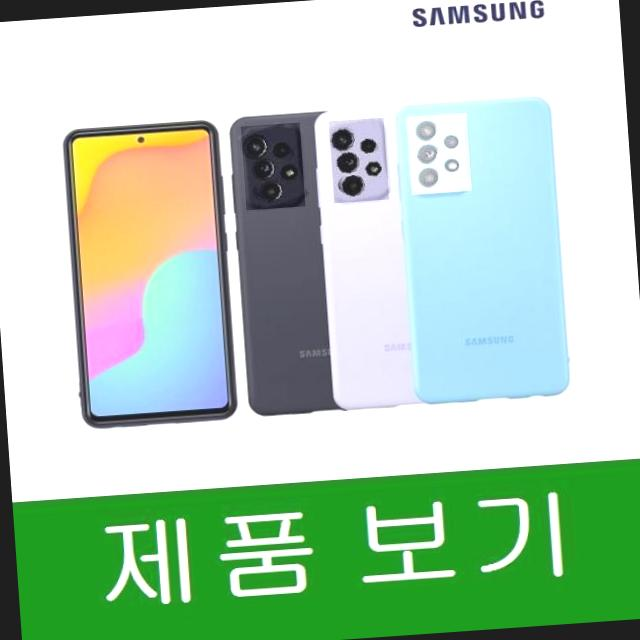lens_back: (336, 172, 374, 200), (239, 130, 272, 160), (244, 156, 283, 181), (408, 115, 442, 141), (253, 180, 286, 206), (330, 149, 362, 175), (326, 124, 355, 148), (416, 166, 441, 192), (414, 139, 438, 166), (438, 128, 458, 152), (358, 133, 378, 156), (271, 139, 292, 158)
phone: (53, 116, 239, 430), (394, 92, 573, 404), (314, 88, 422, 415), (229, 103, 332, 421)
